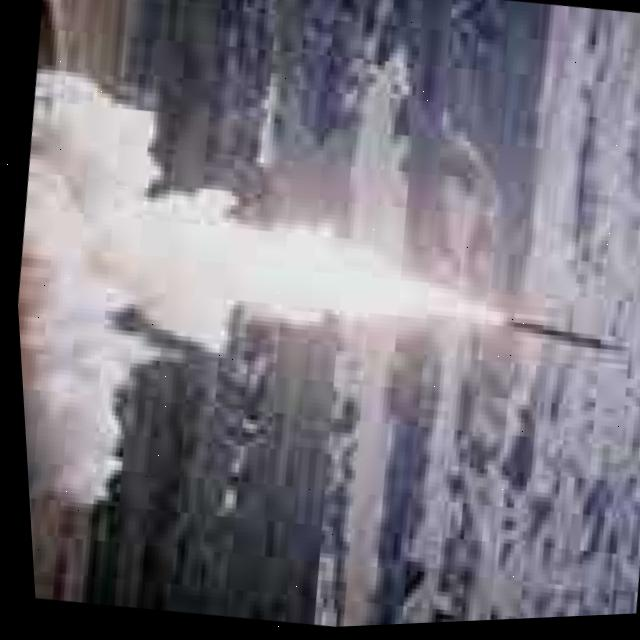missile: (493, 306, 627, 369)
